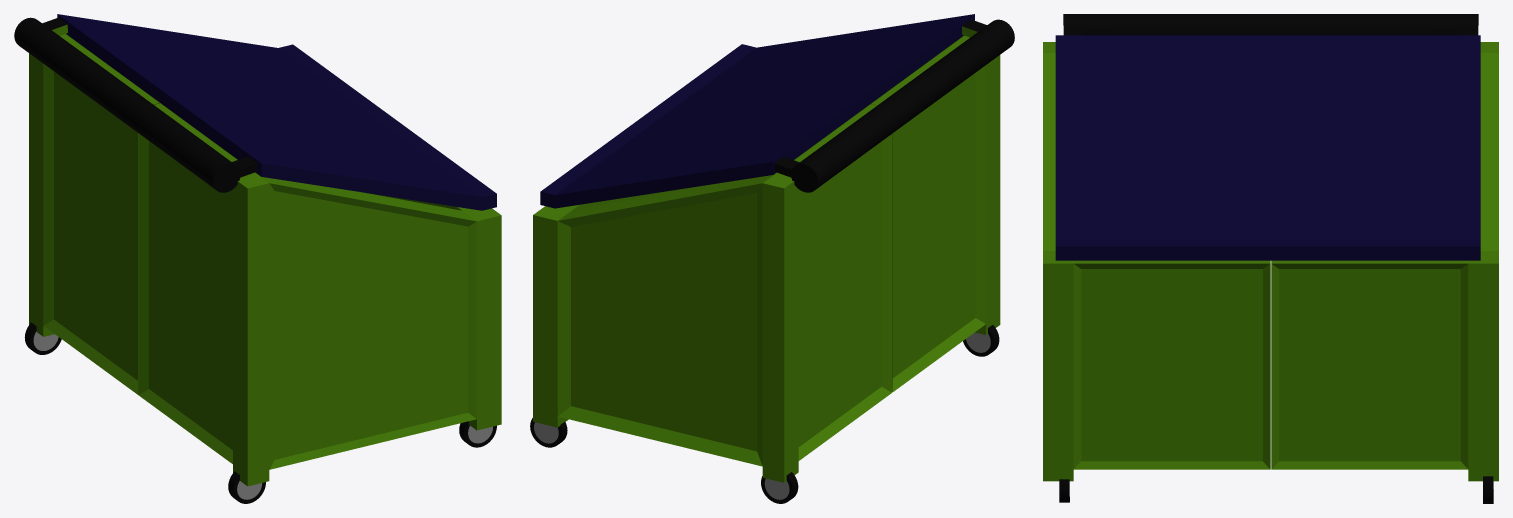
The model's file is prullenbak1.fbx.
3 views of the same model, side by side, from view 1: azimuth 30°, elevation 25°; view 2: azimuth 150°, elevation 25°; view 3: azimuth 270°, elevation 25° (orthographic). The views are drawn at different scales.
Visible parts, largest first — view 1: Cube, Cube.001; view 2: Cube, Cube.001; view 3: Cube, Cube.001.
Boxes of the visible parts, box(x1,y1,x2,y2) form: Cube: box(14, 17, 501, 503); Cube.001: box(57, 14, 496, 210); Cube: box(530, 19, 1014, 503); Cube.001: box(540, 14, 974, 208); Cube: box(1043, 14, 1498, 503); Cube.001: box(1055, 35, 1480, 260).
Bounding box in the file's own units: 514 × 593 × 685.
